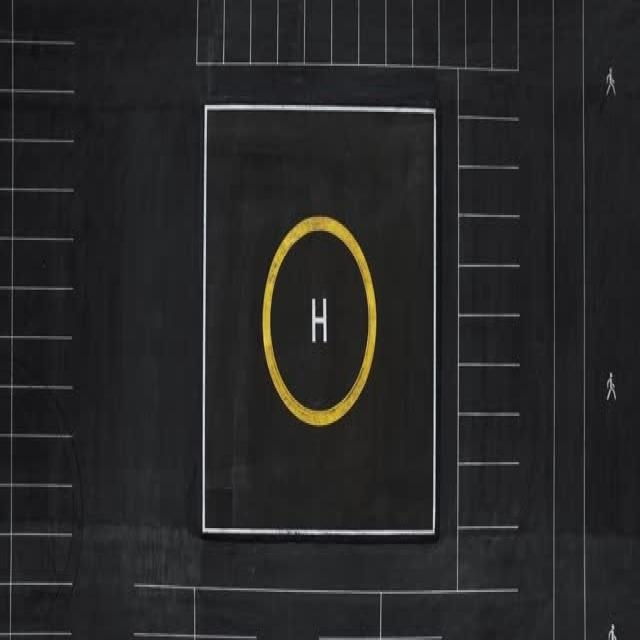helipad: (257, 206, 379, 430)
